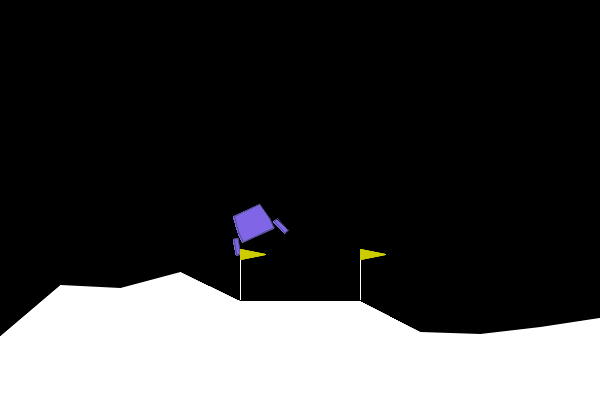lander: (219, 196, 290, 258)
